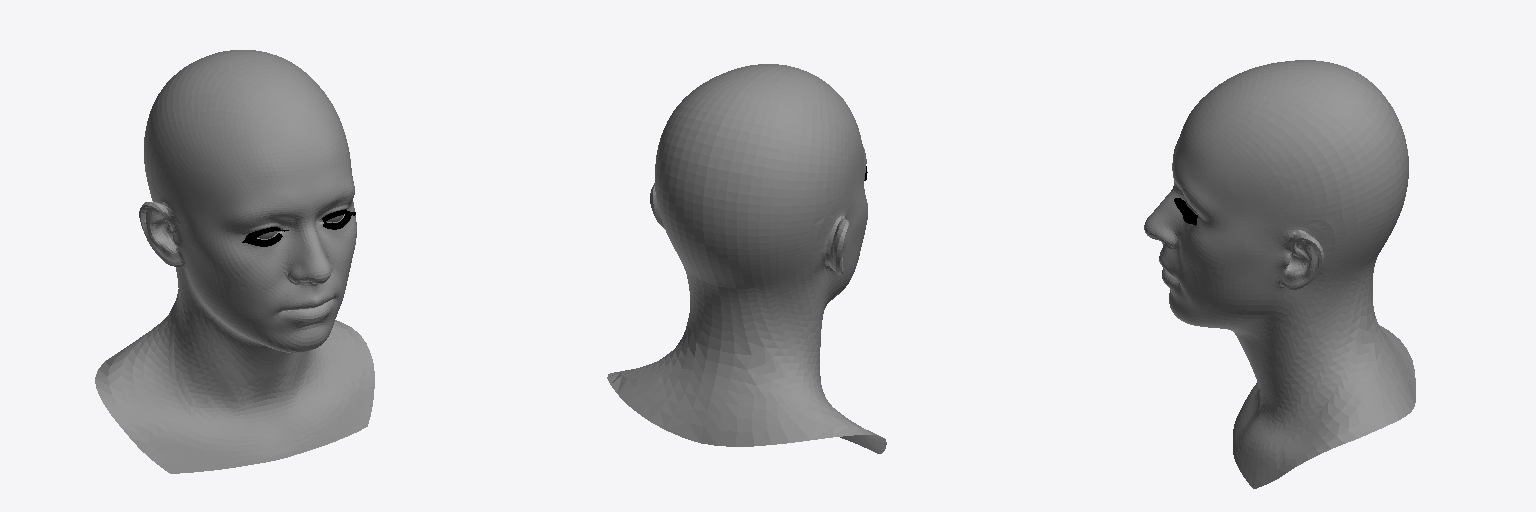
The model's file is identity020.obj.
3 renders of one model, left to right at view 1: azimuth 30°, elevation 25°; view 2: azimuth 150°, elevation 25°; view 3: azimuth 270°, elevation 25°, orthographic.
Bounding box in the file's own units: 24.83 × 33.81 × 22.32.